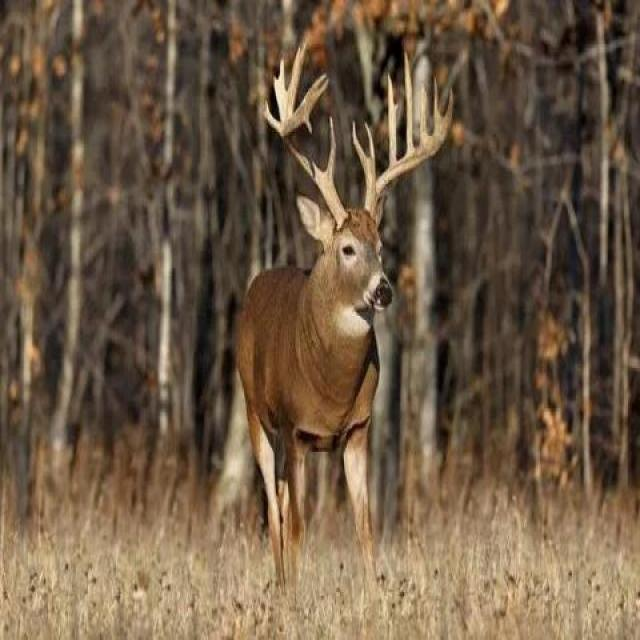deer: (209, 108, 476, 555)
